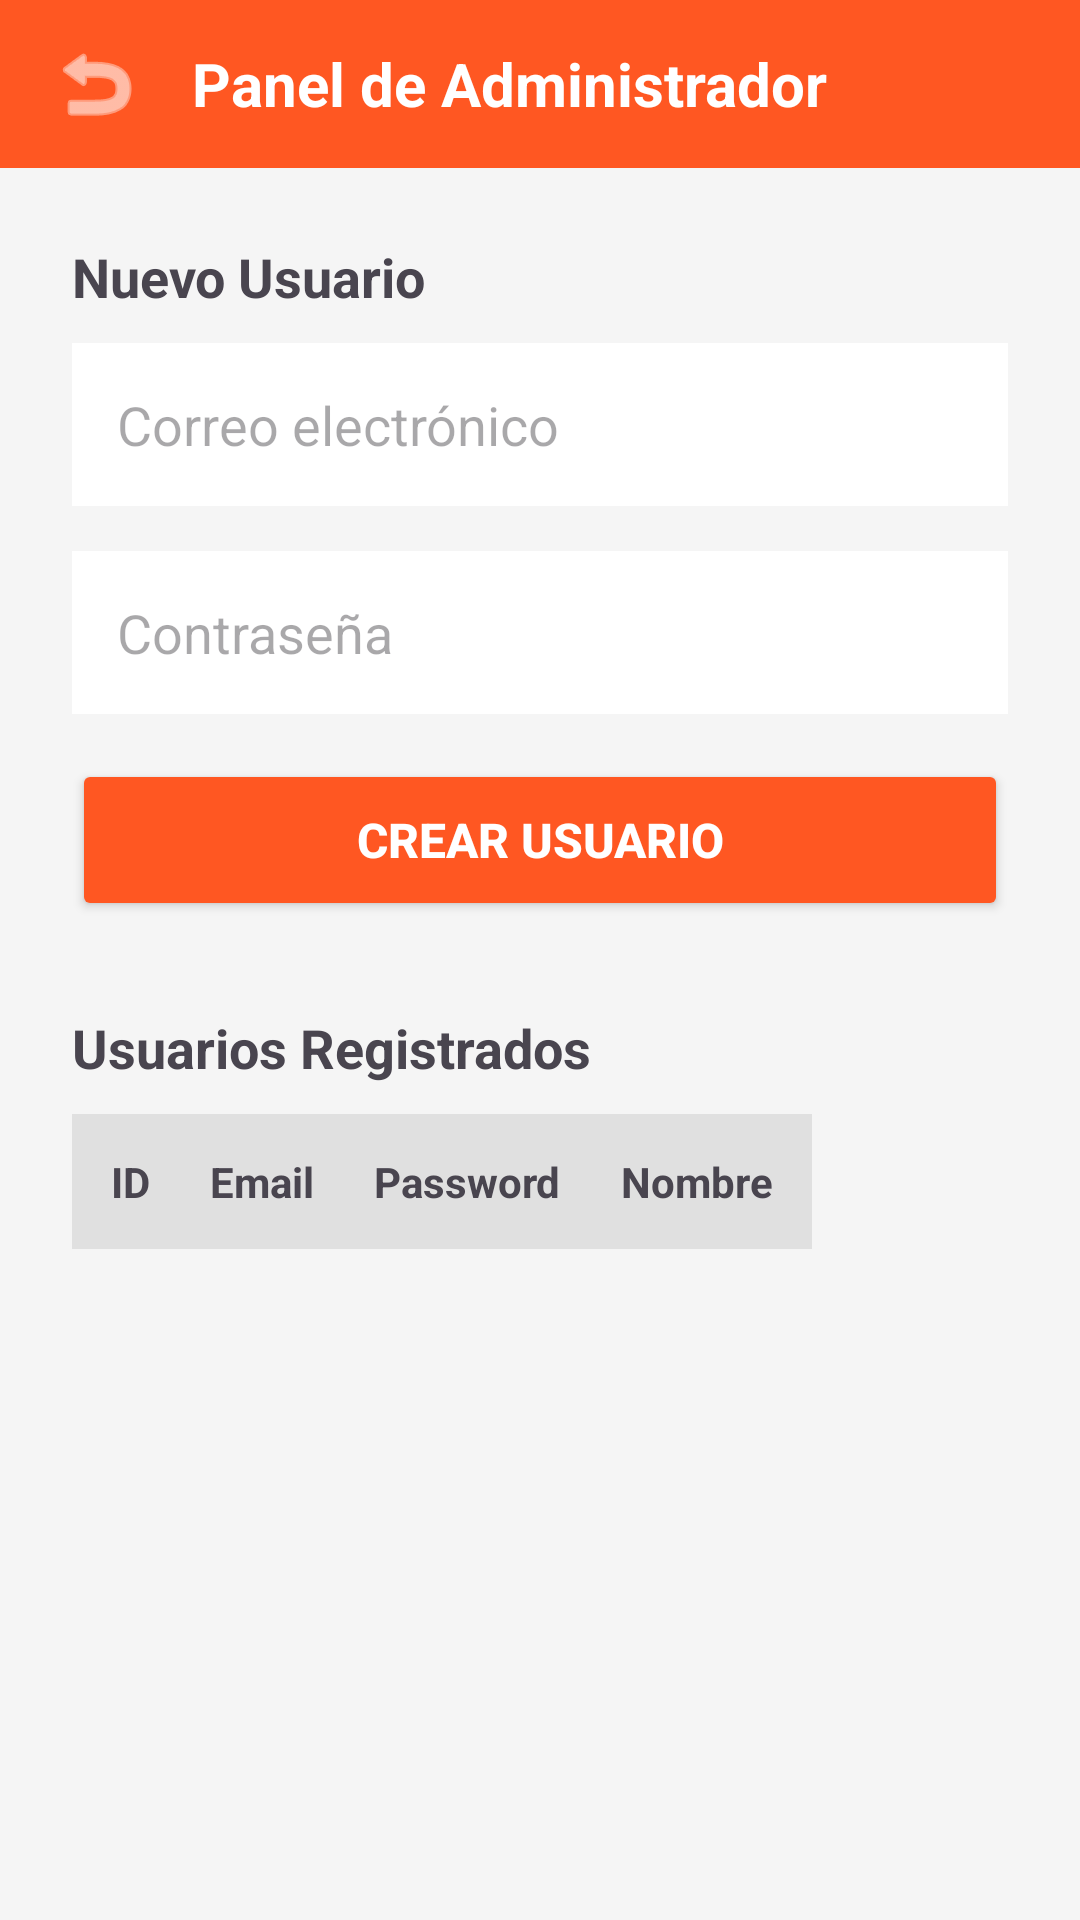

Point at icon controls on the screen. Image size 1080 x 1920, points as [x,y].
Volver: [97,84]
